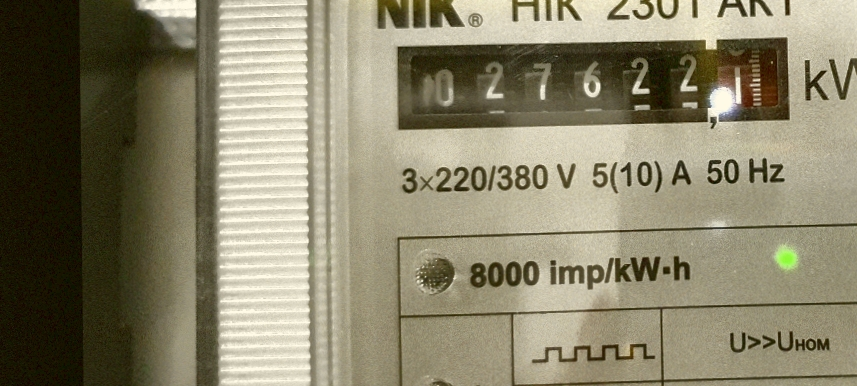0: (431, 65, 456, 108)
1: (729, 62, 745, 106)
2: (627, 54, 652, 96), (482, 59, 505, 101), (676, 51, 699, 93)
6: (580, 58, 602, 99)
7: (530, 60, 554, 103)
screen: (384, 27, 802, 136)
